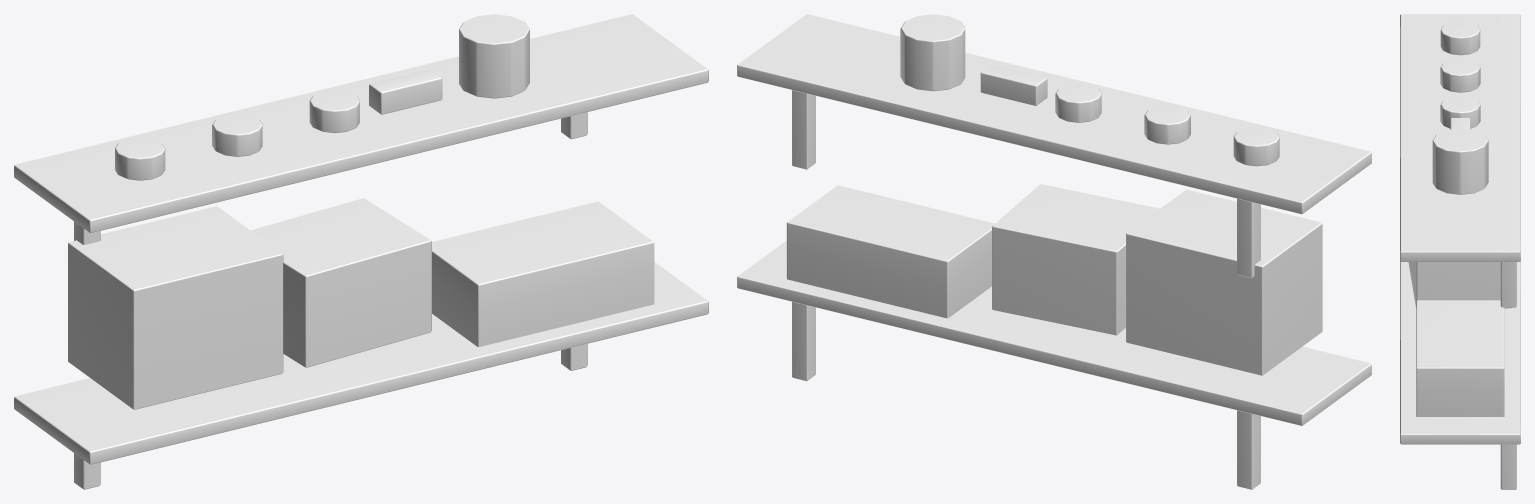
Rendered from wall_shelf.glb.
The picture shows the model from 3 angles, left to right: view 1: azimuth 30°, elevation 25°; view 2: azimuth 150°, elevation 25°; view 3: azimuth 270°, elevation 25°; orthographic projection. The views are drawn at different scales.
Parts seen in each view (by area): view 1: WallShelf; view 2: WallShelf; view 3: WallShelf.
Boxes of the visible parts, x1=… form: WallShelf: x1=14, y1=14, x2=708, y2=489; WallShelf: x1=737, y1=14, x2=1371, y2=489; WallShelf: x1=1400, y1=14, x2=1520, y2=489.
Bounding box in the file's own units: 1.4 × 0.835 × 0.3.
Materials: 1 (1 with a texture image).
